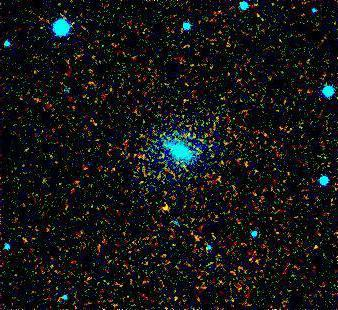star: (146, 200, 176, 230)
